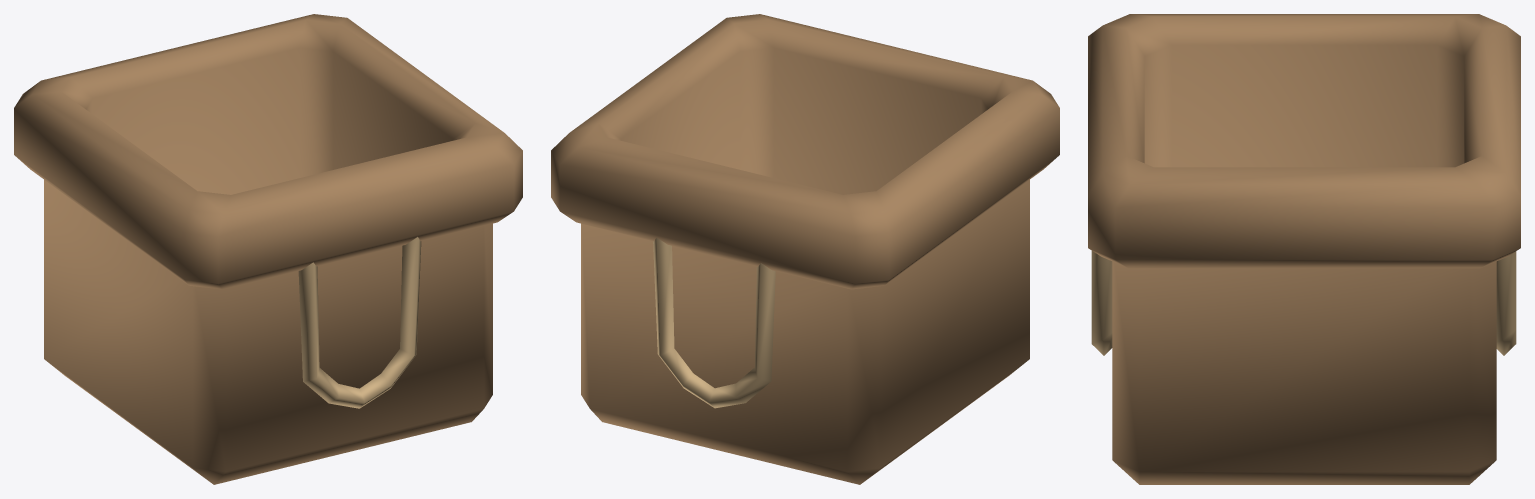
Rendered from rpgpp_ag_basket_02a.fbx.
The picture shows the model from 3 angles, left to right: view 1: azimuth 30°, elevation 25°; view 2: azimuth 150°, elevation 25°; view 3: azimuth 270°, elevation 25°; orthographic projection. The views are drawn at different scales.
Parts seen in each view (by area): view 1: rpgpp_ag_basket_02a; view 2: rpgpp_ag_basket_02a; view 3: rpgpp_ag_basket_02a.
Boxes of the visible parts, x1,y1,x2,y2 form: rpgpp_ag_basket_02a: [14, 14, 522, 484]; rpgpp_ag_basket_02a: [551, 14, 1059, 484]; rpgpp_ag_basket_02a: [1088, 14, 1520, 484].
Bounding box in the file's own units: 0.4866 × 0.4009 × 0.4866.
